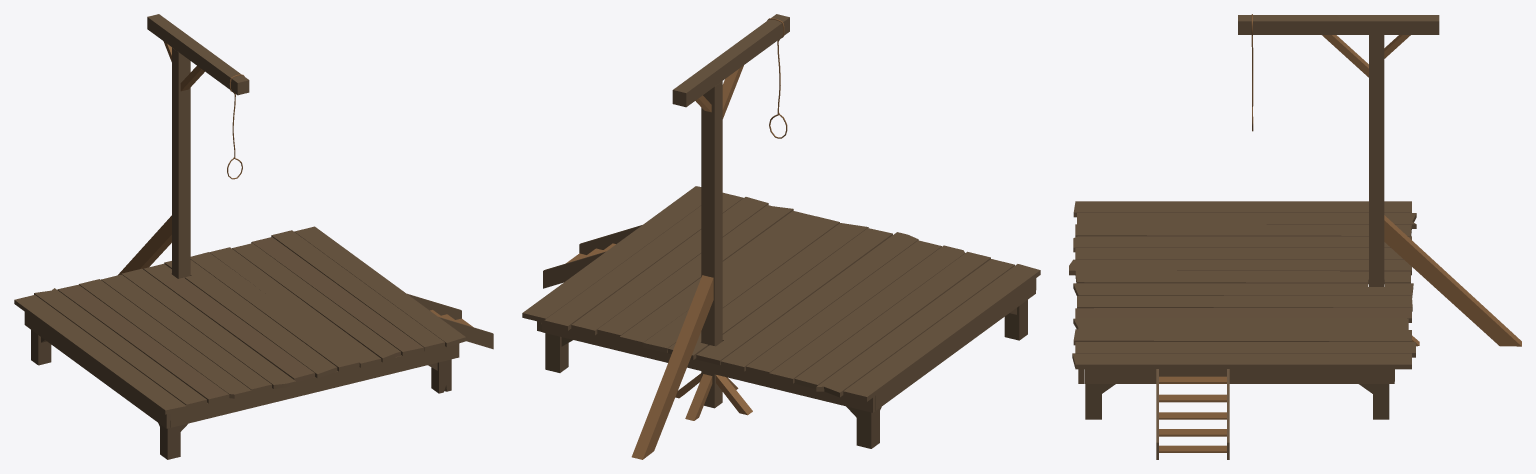
File: scene_NaiQ2VvnvF.glb
3 views of the same model, side by side, from view 1: azimuth 30°, elevation 25°; view 2: azimuth 150°, elevation 25°; view 3: azimuth 270°, elevation 25° (orthographic). The views are drawn at different scales.
Parts seen in each view (by area): view 1: torture_device_001; view 2: torture_device_001; view 3: torture_device_001.
Part boxes in pixels (box(x1,y1,x2,y2)): torture_device_001: box(14, 14, 493, 459); torture_device_001: box(522, 14, 1040, 459); torture_device_001: box(1069, 14, 1521, 459).
Bounding box in the file's own units: 6.14 × 4.75 × 5.93.
